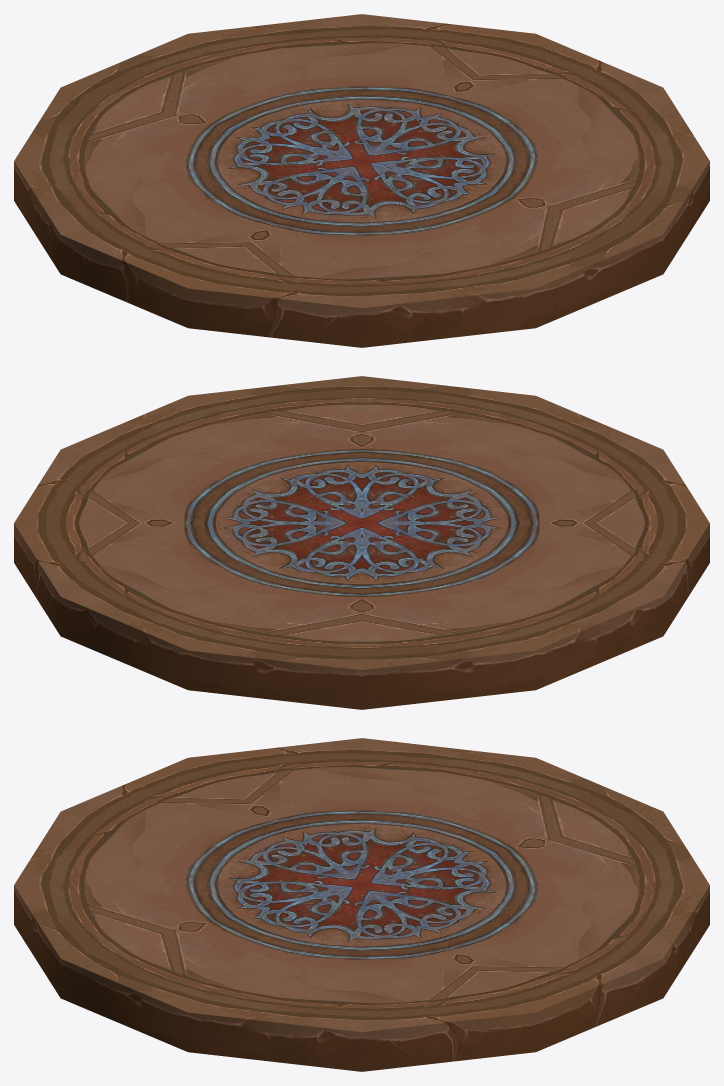
Rendered from guchengqishituan_dibiao_05.FBX.
3 views of the same model, one above another, from view 1: azimuth 30°, elevation 25°; view 2: azimuth 150°, elevation 25°; view 3: azimuth 270°, elevation 25° (orthographic).
Visible parts, largest first — view 1: BOSS_C_002; view 2: BOSS_C_002; view 3: BOSS_C_002.
Boxes of the visible parts, left/top/right/bottom form: BOSS_C_002: left=14, top=14, right=709, bottom=347; BOSS_C_002: left=14, top=376, right=709, bottom=709; BOSS_C_002: left=14, top=738, right=709, bottom=1071.
Size of the model in its own units: 7.37 by 0.464 by 7.37.
